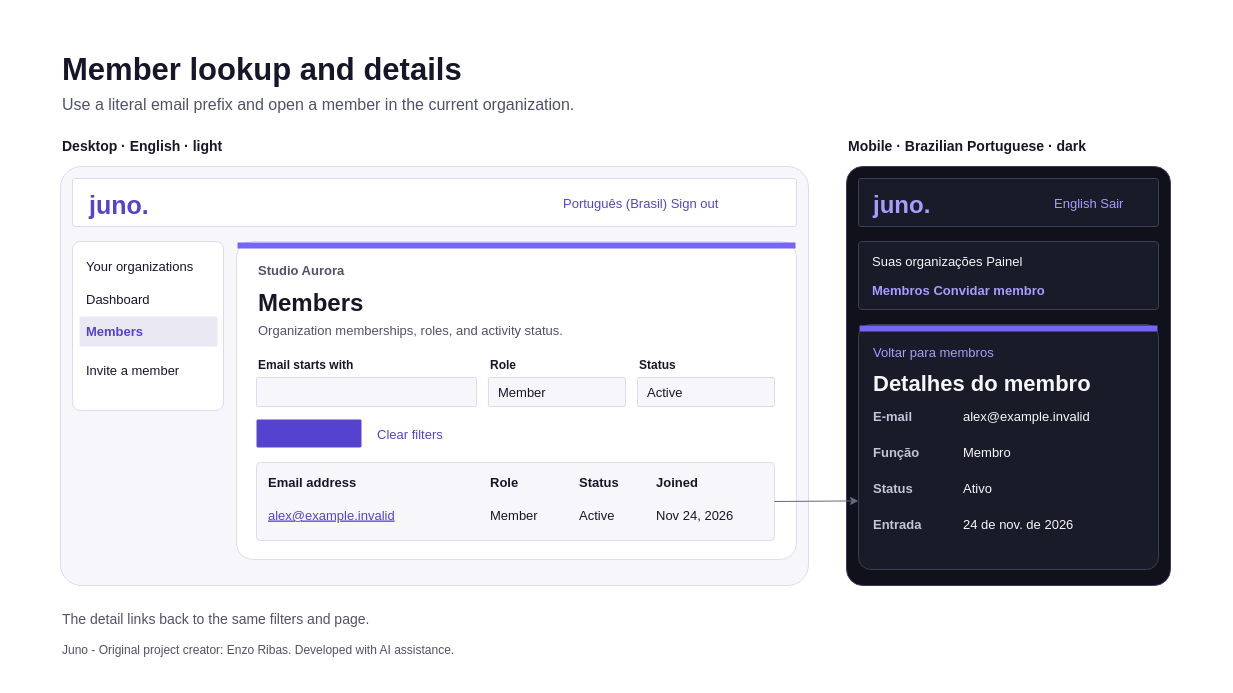
The diagram is 1233 pixels wide and 693 high, and some of its shapes have lost their labels. Each missing label, with the box of its shape:
alex@: (256, 376, 476, 406)
Apply filters: (256, 419, 361, 447)
